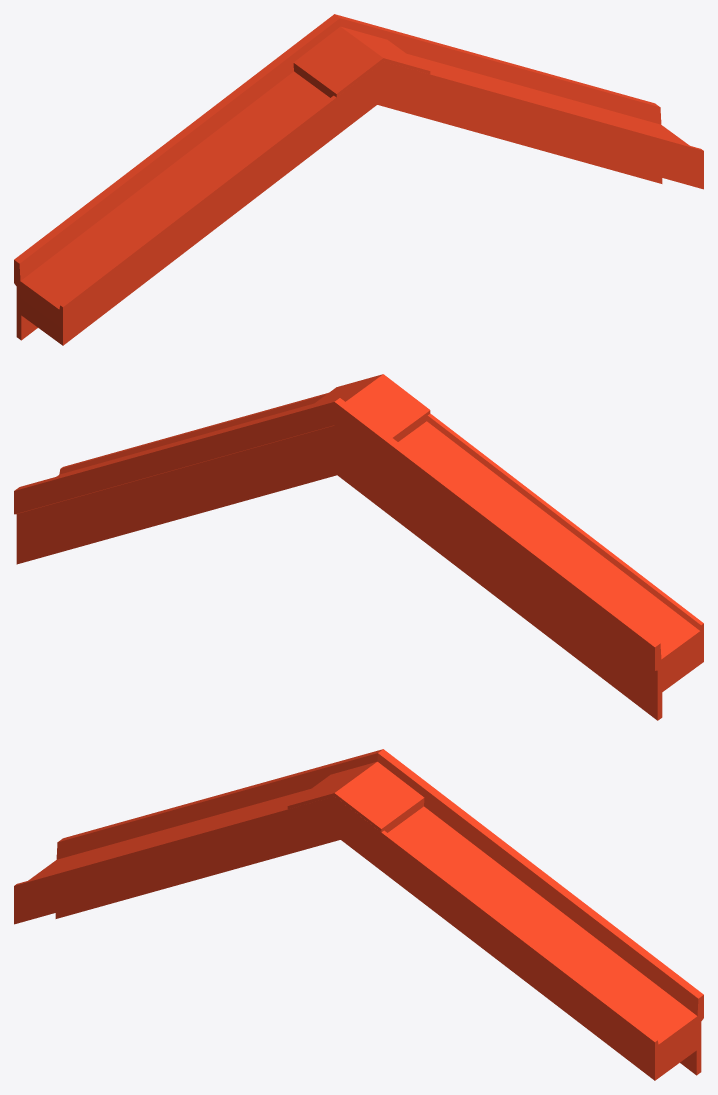
The model's file is roof-metal-moderate-2m-front-center.fbx.
3 renders of one model, top to bottom at view 1: azimuth 30°, elevation 25°; view 2: azimuth 150°, elevation 25°; view 3: azimuth 330°, elevation 25°, orthographic.
Parts seen in each view (by area): view 1: roof-metal-moderate-2m-front-center; view 2: roof-metal-moderate-2m-front-center; view 3: roof-metal-moderate-2m-front-center.
Part boxes in pixels (<box>): roof-metal-moderate-2m-front-center: <box>14,14,703,345</box>; roof-metal-moderate-2m-front-center: <box>14,374,703,720</box>; roof-metal-moderate-2m-front-center: <box>14,749,703,1080</box>.
Bounding box in the file's own units: 4 × 1.45 × 0.53.
